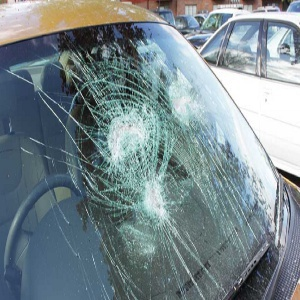door: (208, 84, 274, 130)
